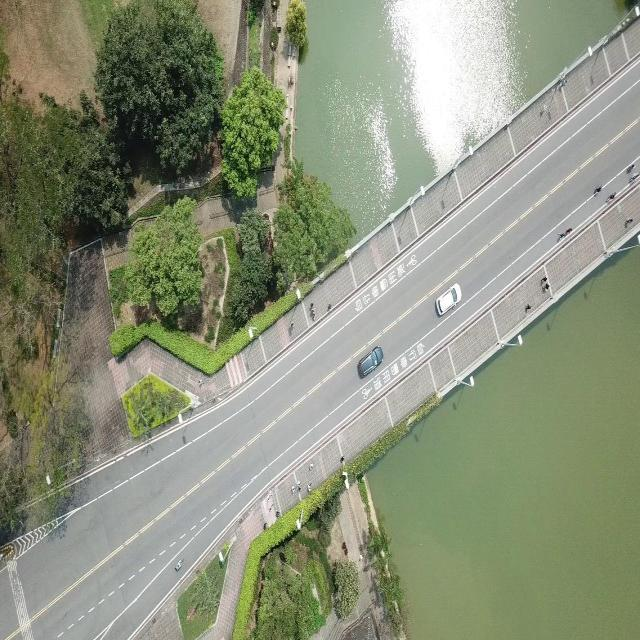bike: (174, 557, 182, 570), (593, 183, 602, 194)
car: (357, 343, 384, 378), (435, 283, 461, 316)
